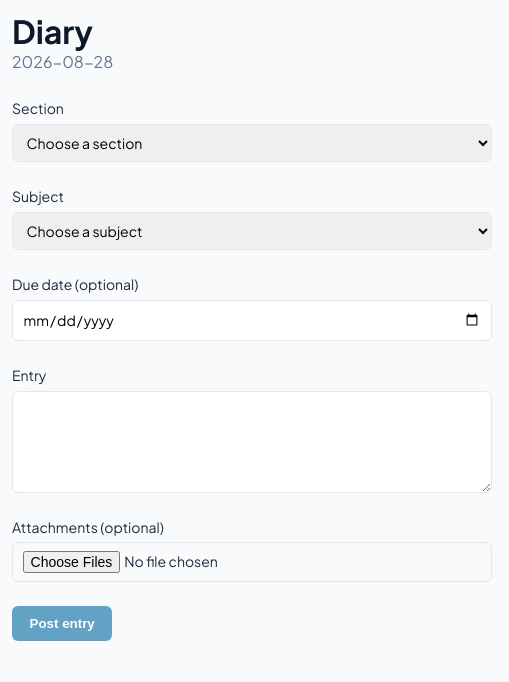
Test: DiaryView › loads sections/subjects, posts an entry, and refreshes the list
Select "Grade 3 3A — Gulistan-e-Jauhar" in the dropdown with test id "section-select" at (252, 143), box 12,124 -> 492,162
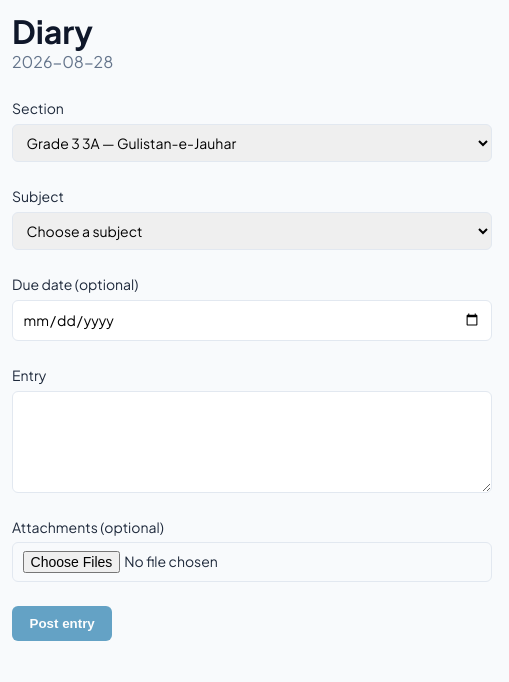
Select "Urdu" in the dropdown with test id "subject-select" at (252, 231), box 12,212 -> 492,250
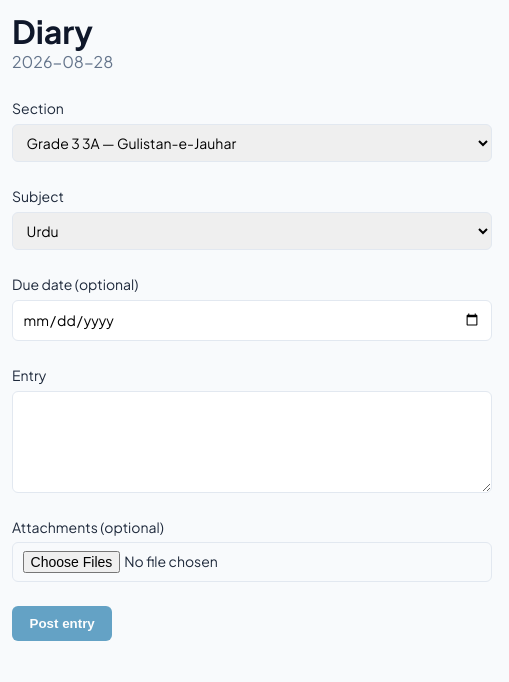
Type "Read chapter 3." into the text box with test id "entry-text" at (252, 442), box 12,391 -> 492,493
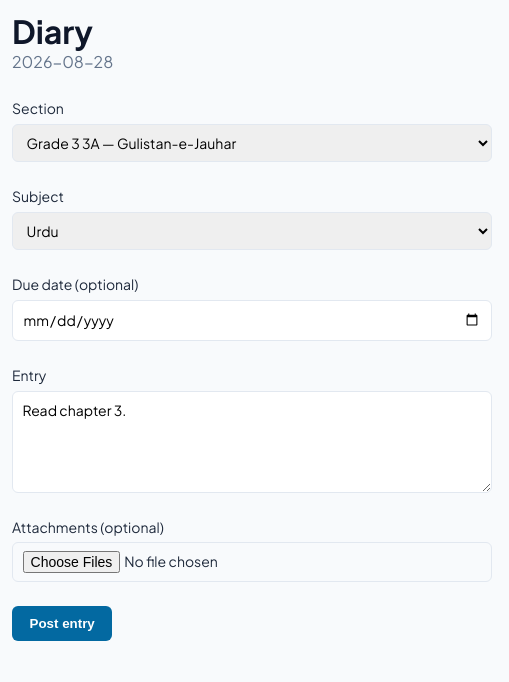
Click the button with test id "post-entry" at (62, 624), box 12,606 -> 112,641
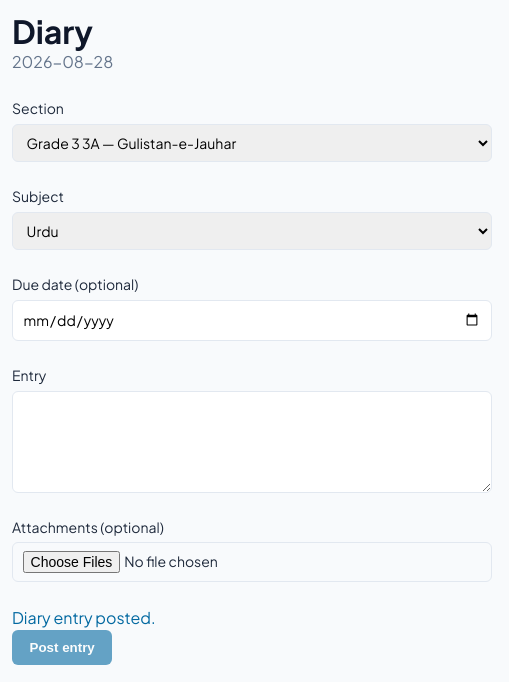
Now the text "posted" is shown, box 12,607 -> 156,628
